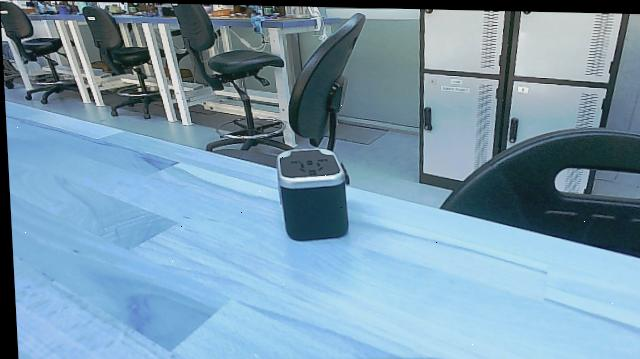adapter: (264, 144, 355, 247)
